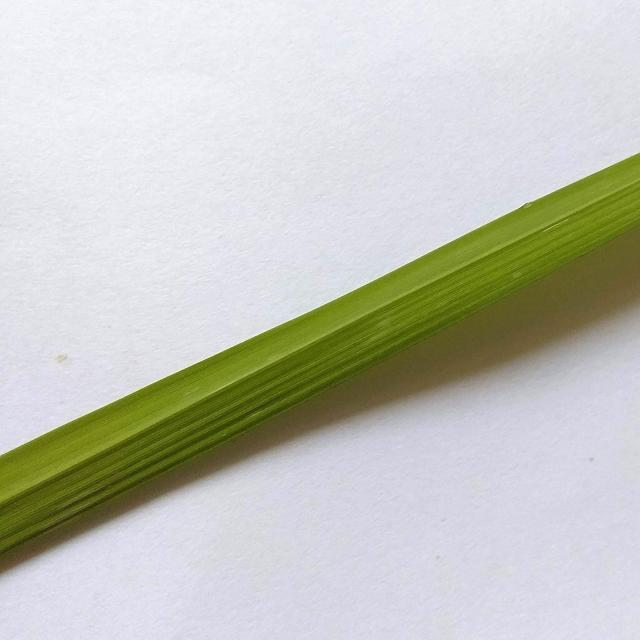healthy: (0, 148, 640, 558)
